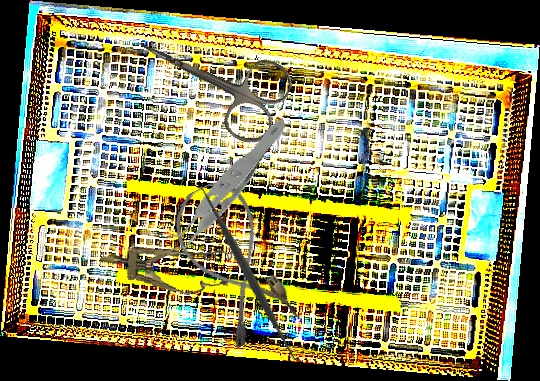Cannula: (161, 173, 303, 351)
Iris Scissors: (119, 3, 299, 151)
Spatula Surgical: (191, 179, 308, 370)
Speculum: (97, 233, 234, 300)
Tissue Forceps: (132, 116, 313, 257)
